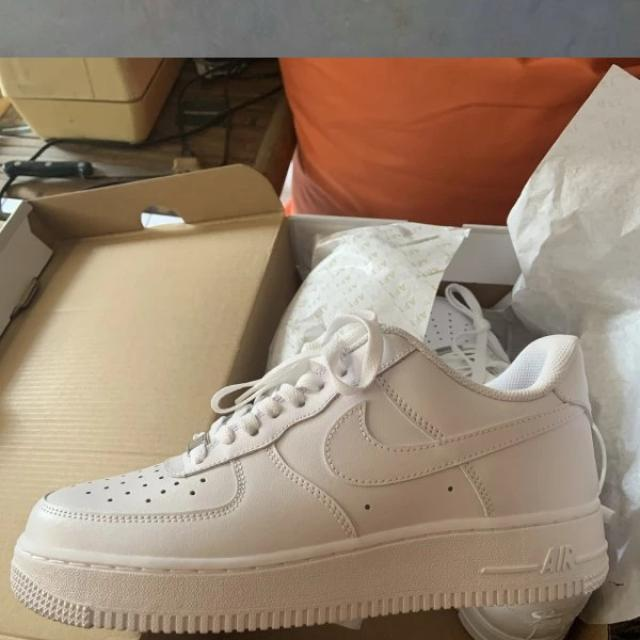nike original air force: (12, 317, 611, 637)
